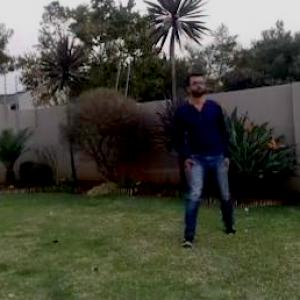follow: (170, 59, 235, 256)
